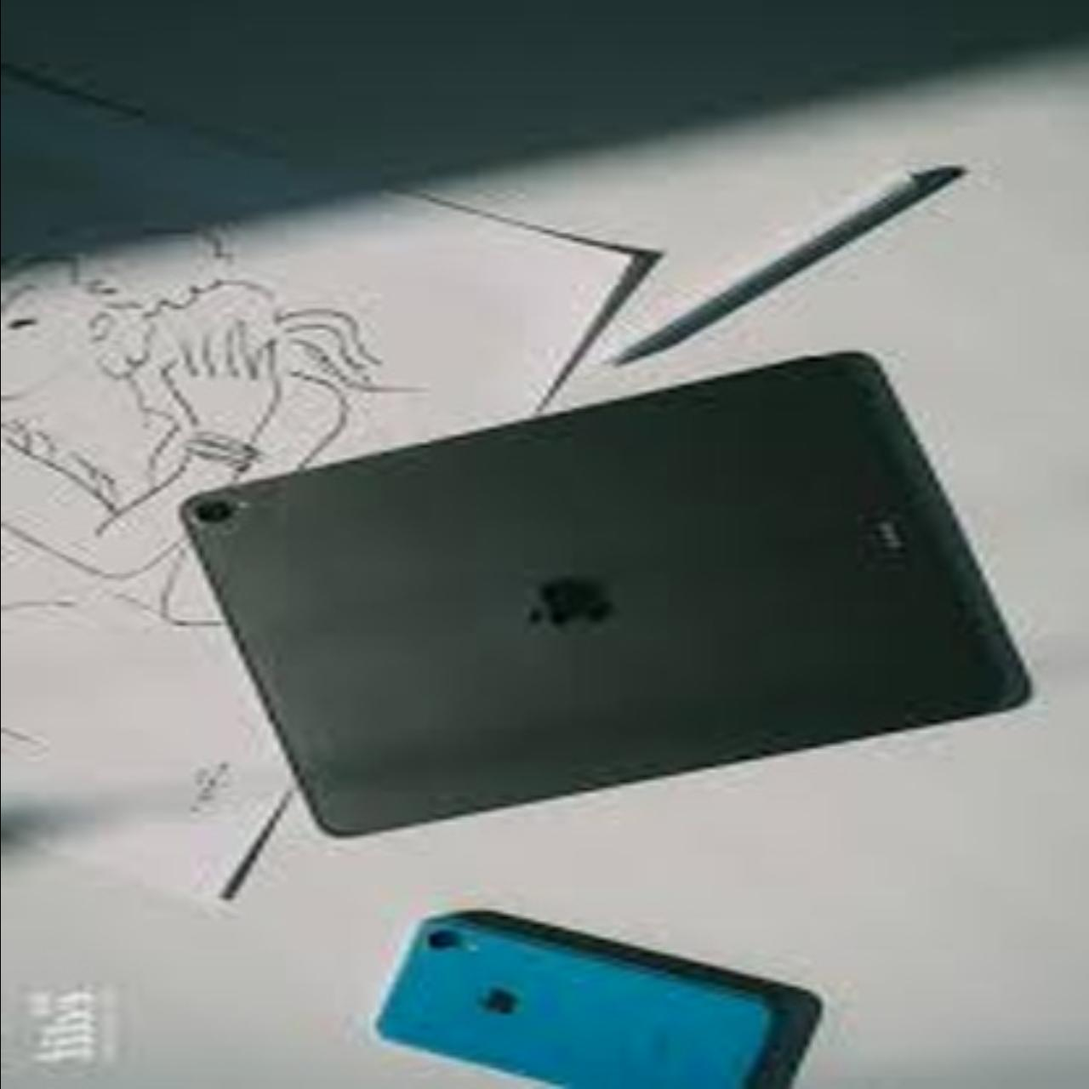Tablet_PC: (170, 343, 1055, 858)
